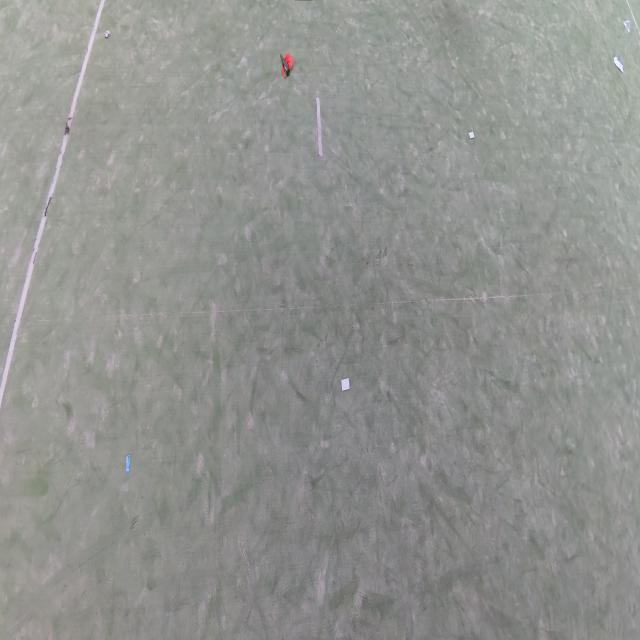rubbish: (281, 51, 294, 79), (280, 55, 290, 77), (613, 57, 624, 74), (622, 19, 631, 35), (341, 377, 350, 390), (126, 454, 130, 474), (104, 29, 110, 38), (468, 132, 474, 138)
